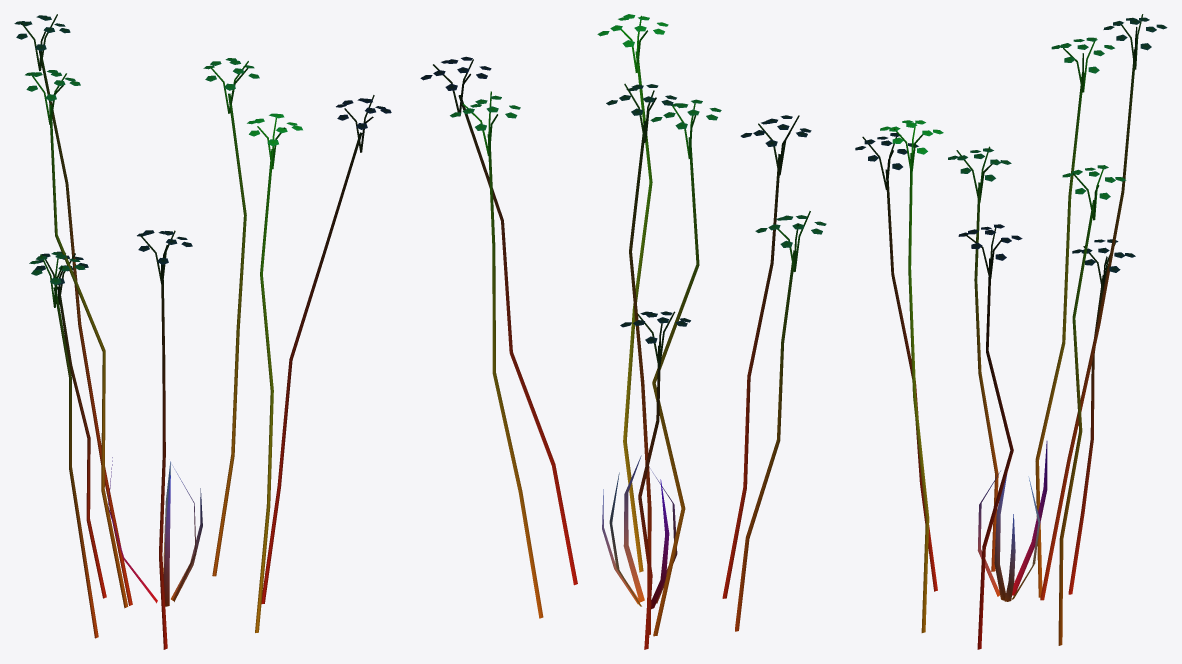
The model's file is SM_Flower_Yarrow_A_LOD2.fbx.
3 renders of one model, left to right at view 1: azimuth 30°, elevation 25°; view 2: azimuth 150°, elevation 25°; view 3: azimuth 270°, elevation 25°, orthographic. The views are drawn at different scales.
Visible parts, largest first — view 1: SM_Flower_Yarrow_A_LOD2; view 2: SM_Flower_Yarrow_A_LOD2; view 3: SM_Flower_Yarrow_A_LOD2.
Part boxes in pixels (bbox=[...]): SM_Flower_Yarrow_A_LOD2: bbox=[14, 14, 391, 649]; SM_Flower_Yarrow_A_LOD2: bbox=[420, 14, 826, 649]; SM_Flower_Yarrow_A_LOD2: bbox=[855, 14, 1167, 649].
Bounding box in the file's own units: 0.392 × 0.5746 × 0.2899.
